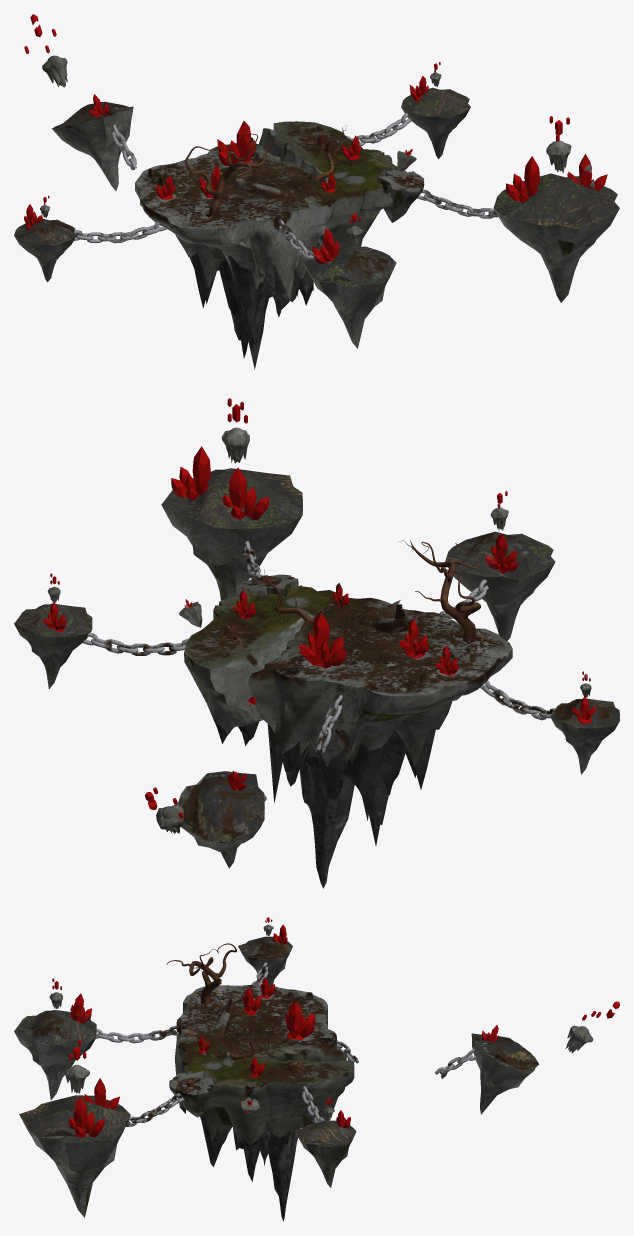
The model's file is showcaseFloatingIslandMap.b35cf5a0.glb.
3 views of the same model, one above another, from view 1: azimuth 30°, elevation 25°; view 2: azimuth 150°, elevation 25°; view 3: azimuth 270°, elevation 25° (orthographic). The views are drawn at different scales.
Parts seen in each view (by area): view 1: polySurface63; view 2: polySurface63; view 3: polySurface63.
Boxes of the visible parts, x1=… form: polySurface63: x1=14, y1=14, x2=619, y2=369; polySurface63: x1=14, y1=398, x2=619, y2=888; polySurface63: x1=14, y1=917, x2=619, y2=1221.
Bounding box in the file's own units: 0.7182 × 0.4116 × 0.8598.
Materials: 1 (1 with a texture image).
